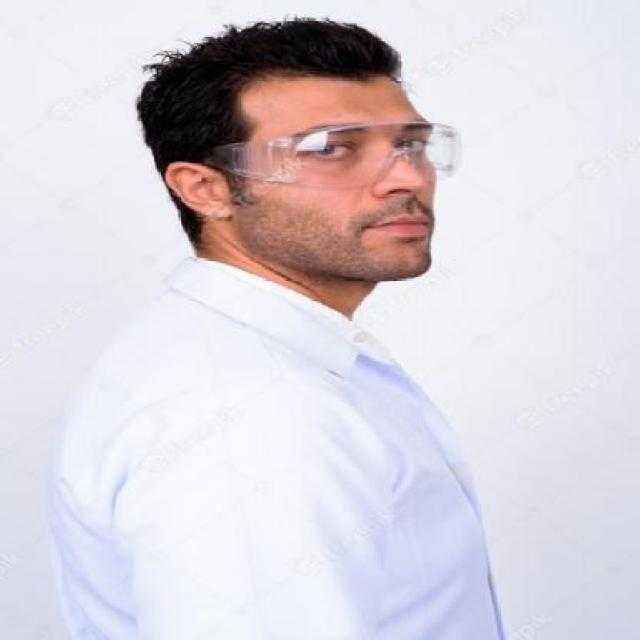face_nomask: (302, 119, 450, 243)
glasses: (178, 117, 464, 183)
head_nohelmet: (167, 11, 425, 106)
person: (50, 20, 535, 640)
